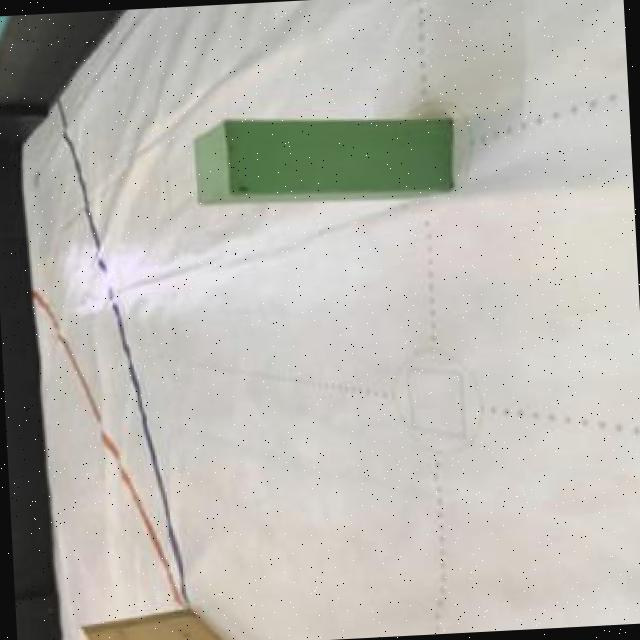greenbox: (192, 105, 456, 208)
